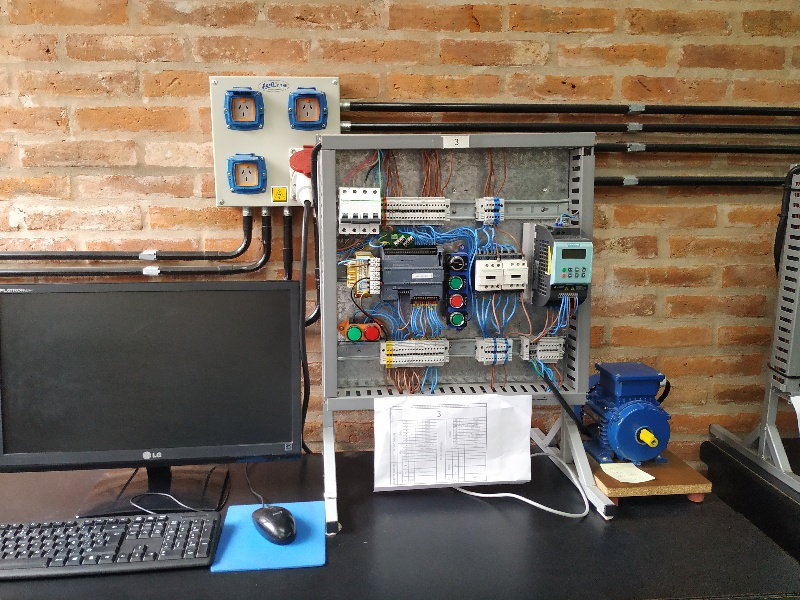Tablero 3: (329, 145, 595, 400)
